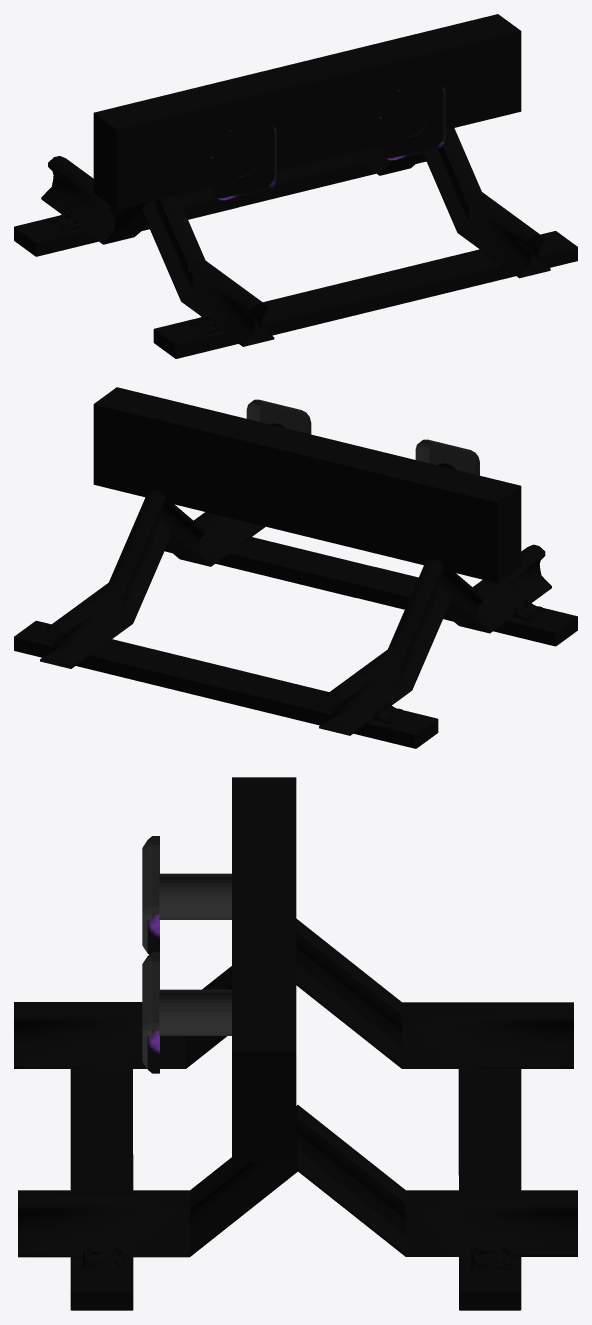
File: utkozo.fbx
3 views of the same model, one above another, from view 1: azimuth 30°, elevation 25°; view 2: azimuth 150°, elevation 25°; view 3: azimuth 270°, elevation 25° (orthographic). The views are drawn at different scales.
Visible parts, largest first — view 1: ütközö2; view 2: ütközö2; view 3: ütközö2.
Part boxes in pixels (bbox=[...]): ütközö2: bbox=[14, 14, 577, 358]; ütközö2: bbox=[14, 387, 577, 748]; ütközö2: bbox=[14, 777, 577, 1310].
Bounding box in the file's own units: 1049 × 471 × 913.
